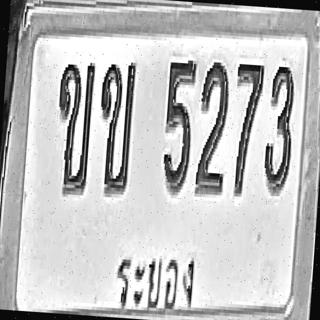A02: (52, 58, 96, 195), (94, 59, 136, 196)
N02: (194, 58, 231, 195)
N03: (262, 63, 296, 194)
N05: (160, 56, 197, 196)
N07: (228, 61, 264, 198)
P53: (112, 242, 200, 320)
